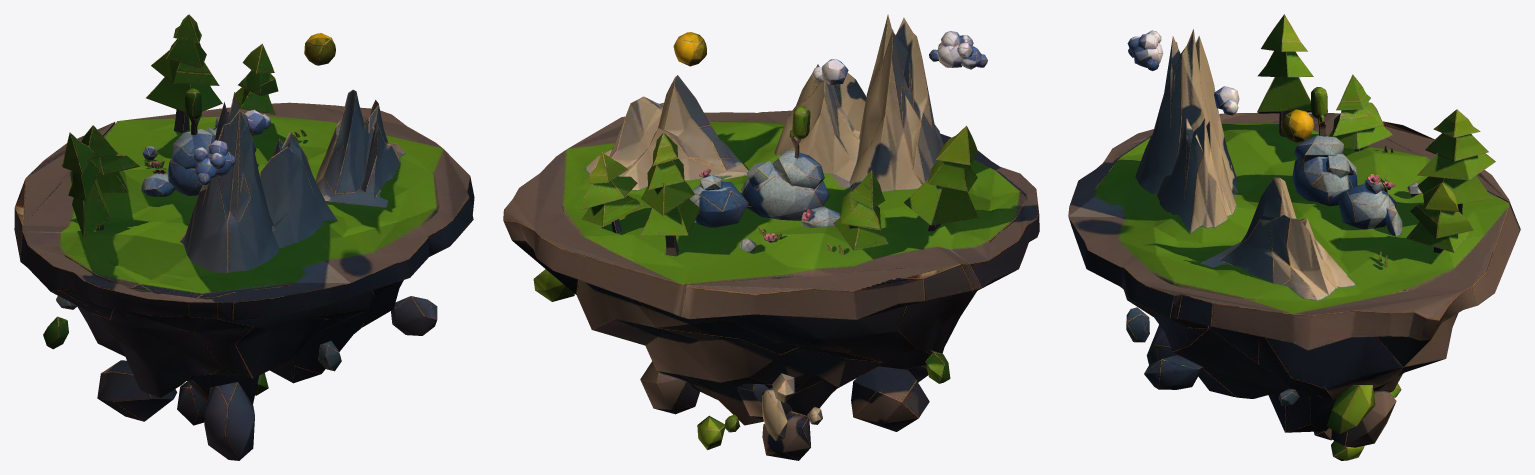
3 renders of one model, left to right at view 1: azimuth 30°, elevation 25°; view 2: azimuth 150°, elevation 25°; view 3: azimuth 270°, elevation 25°, orthographic. The views are drawn at different scales.
Parts seen in each view (by area): view 1: Object_2; view 2: Object_2; view 3: Object_2.
Boxes of the visible parts, <box> form: Object_2: <box>14,14,474,460</box>; Object_2: <box>503,14,1039,460</box>; Object_2: <box>1068,14,1520,460</box>.
Size of the model in its own units: 307 by 265 by 278.
Materials: 1 (1 with a texture image).
